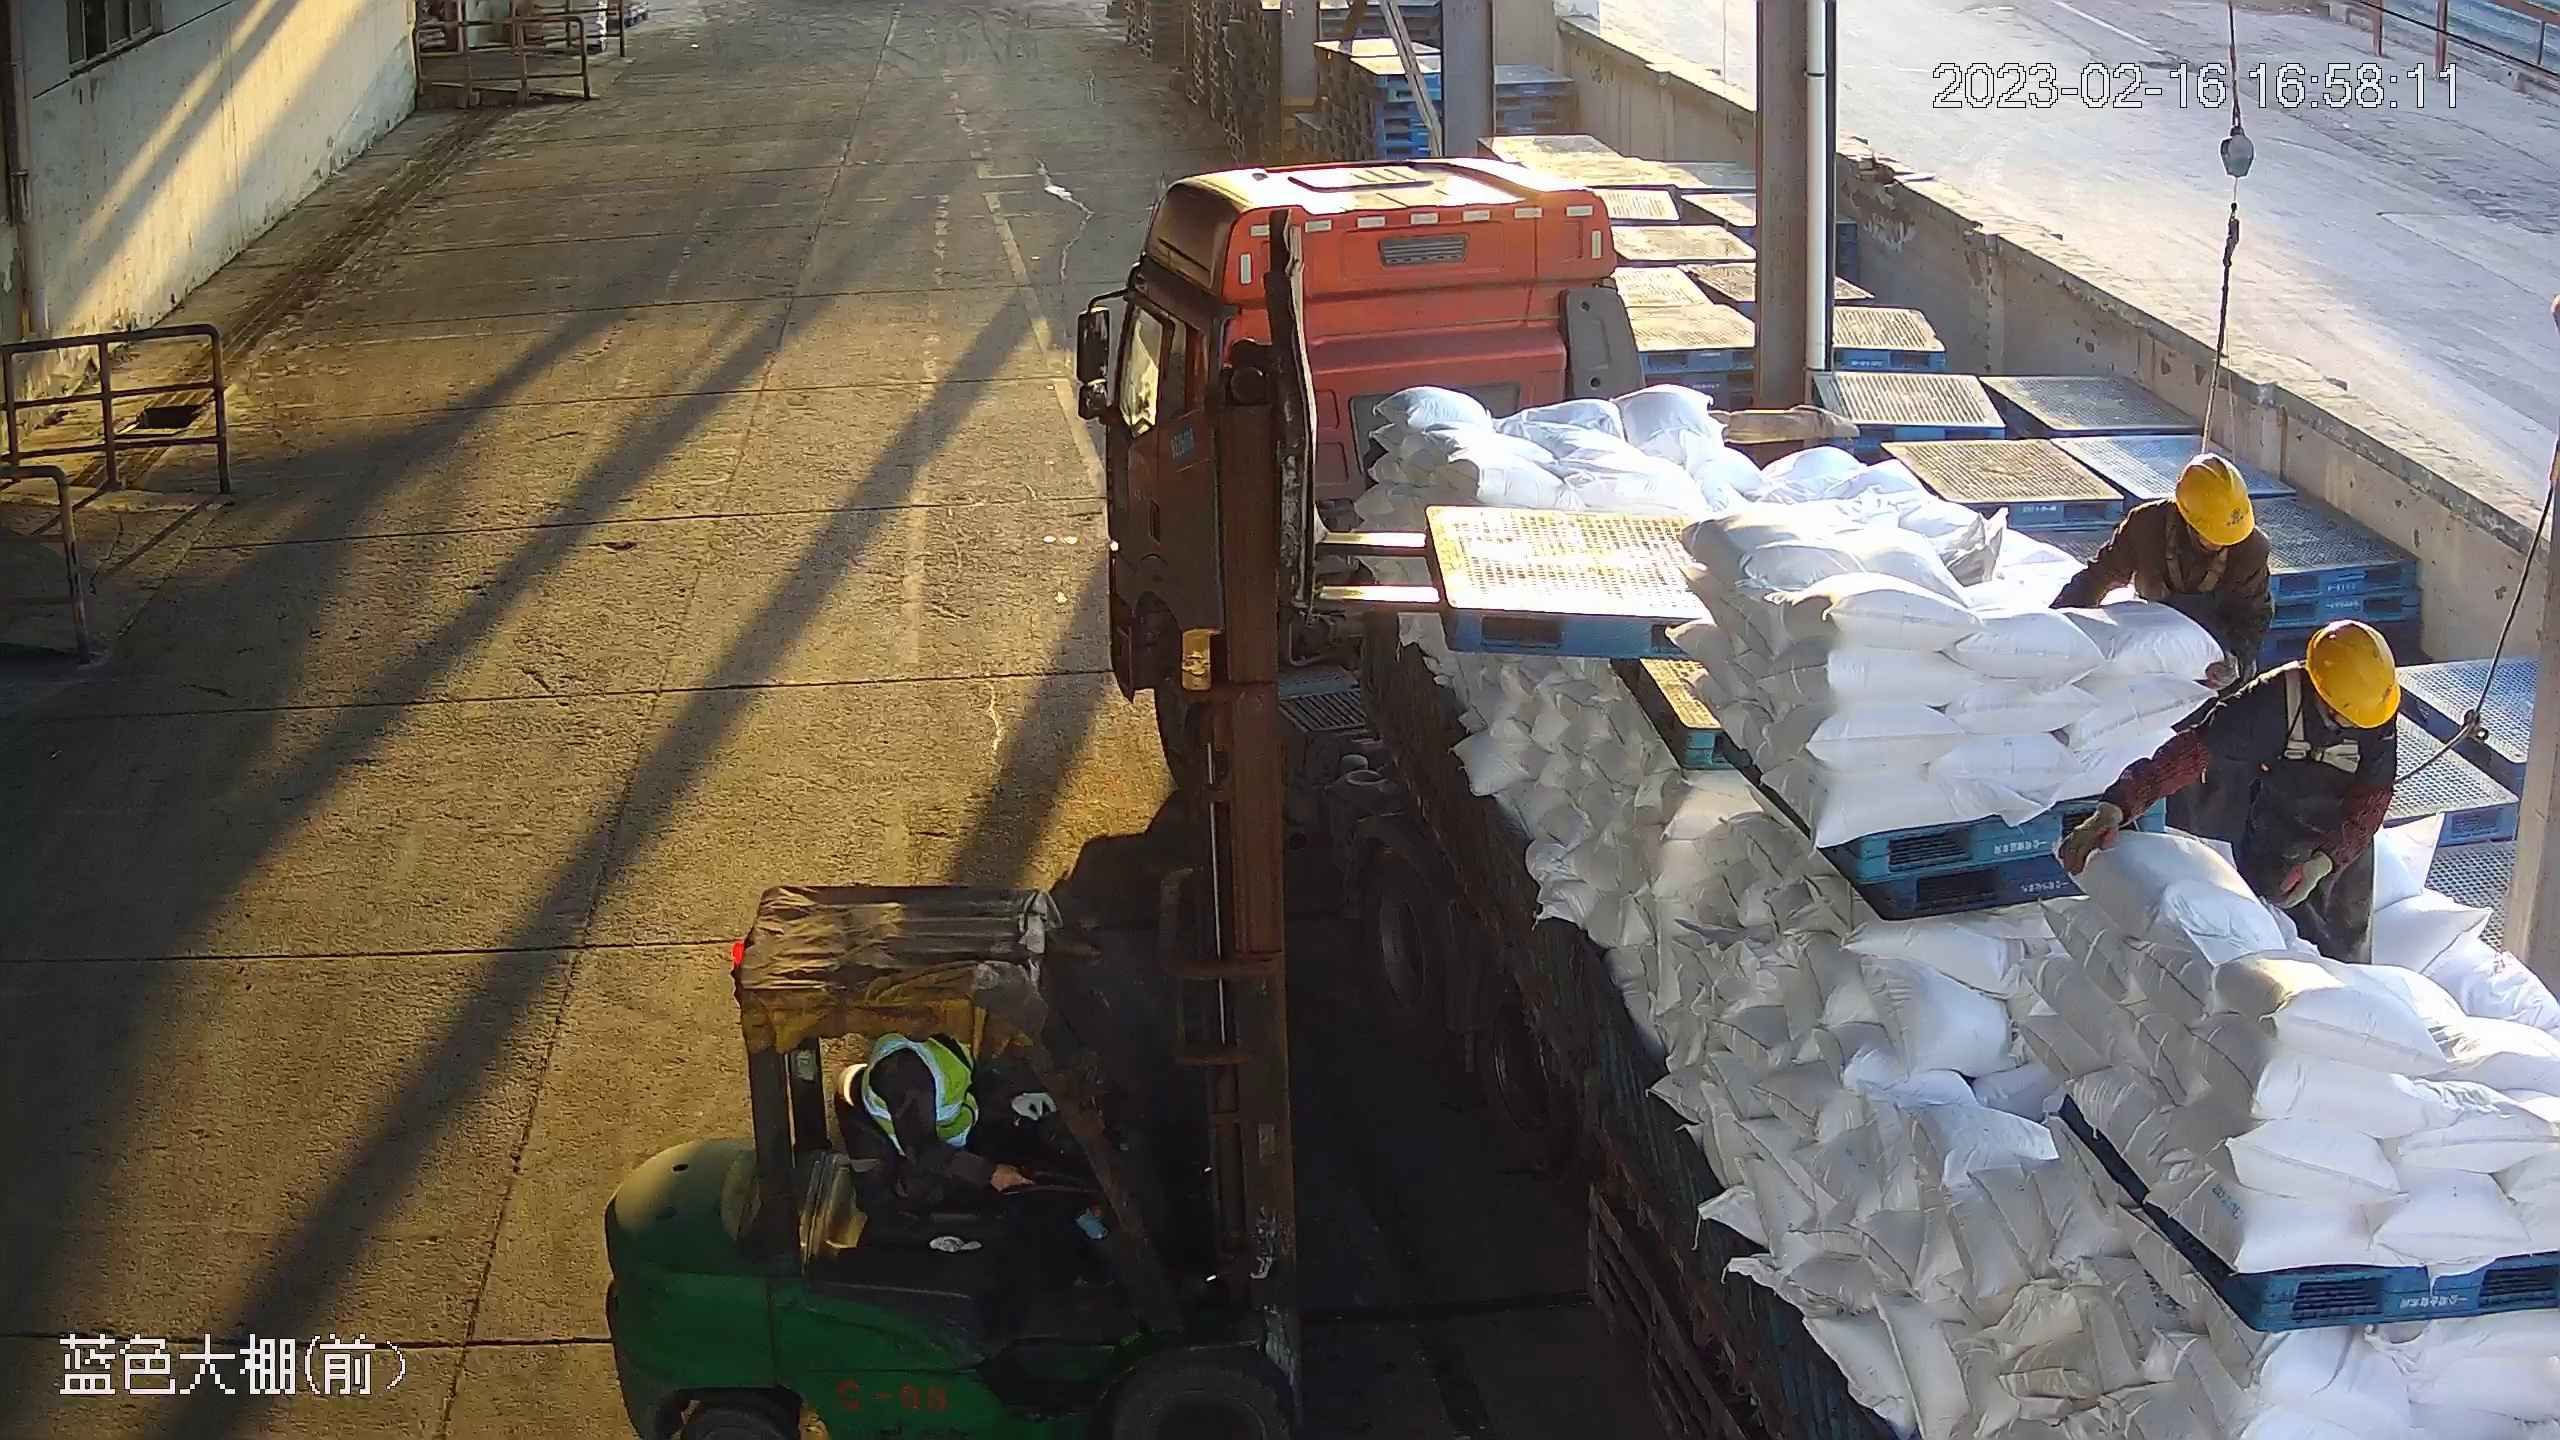belt: (2284, 697, 2377, 778), (2160, 539, 2244, 601)
head: (2241, 625, 2392, 778), (2125, 451, 2263, 585)
helmet: (2304, 620, 2404, 725), (2177, 450, 2267, 543)
people: (2055, 622, 2393, 1018), (873, 1025, 1125, 1282)
truck: (1086, 155, 2560, 1440)
